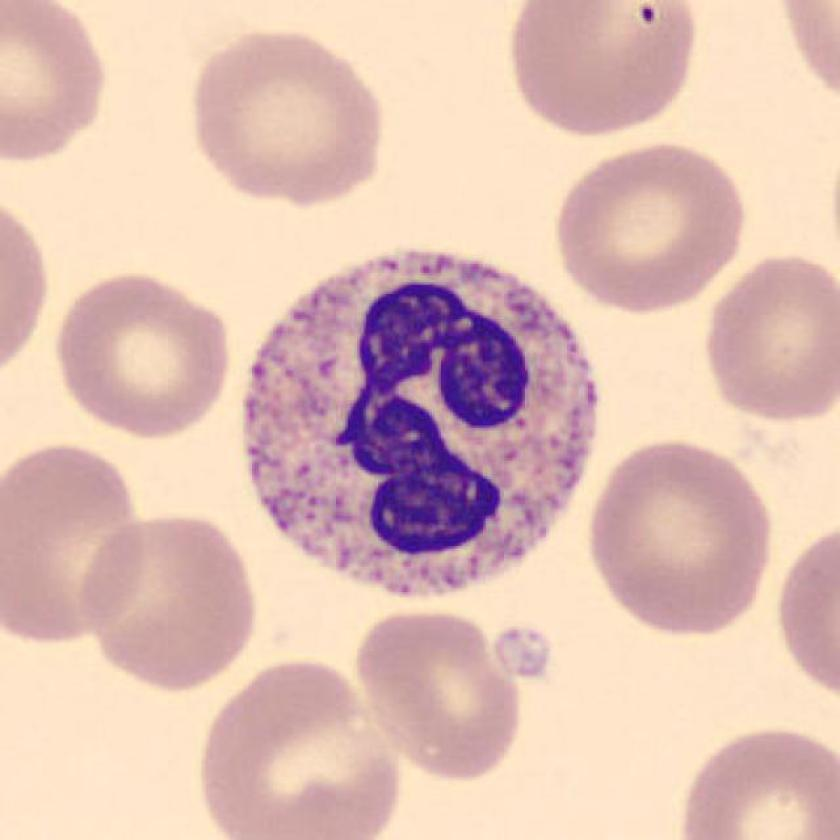neutrophil: (244, 249, 599, 594)
